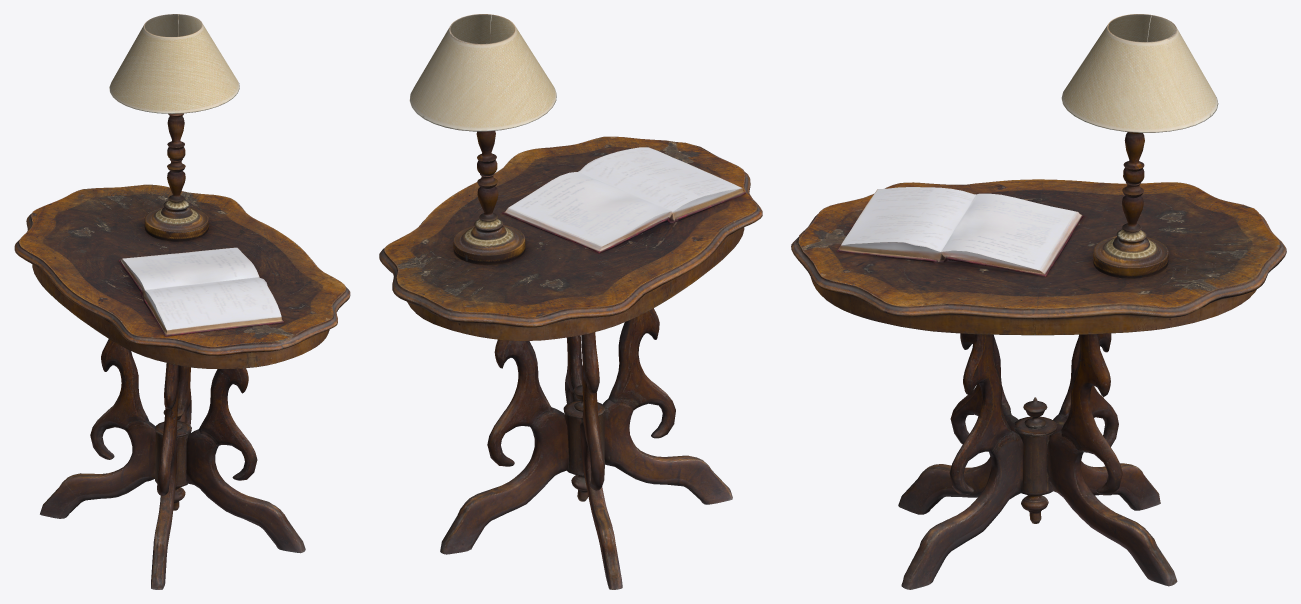
Rendered from Stool.obj.
3 renders of one model, left to right at view 1: azimuth 30°, elevation 25°; view 2: azimuth 150°, elevation 25°; view 3: azimuth 270°, elevation 25°, orthographic. The views are drawn at different scales.
Visible parts, largest first — view 1: stolik_lampa_ksiazka.001; view 2: stolik_lampa_ksiazka.001; view 3: stolik_lampa_ksiazka.001.
Part boxes in pixels (x1,y1,x2,y2): stolik_lampa_ksiazka.001: (14,14,350,589); stolik_lampa_ksiazka.001: (379,14,762,589); stolik_lampa_ksiazka.001: (791,14,1286,589).
Bounding box in the file's own units: 0.7023 × 1.37 × 1.12.
Materials: 2 (2 with a texture image).
